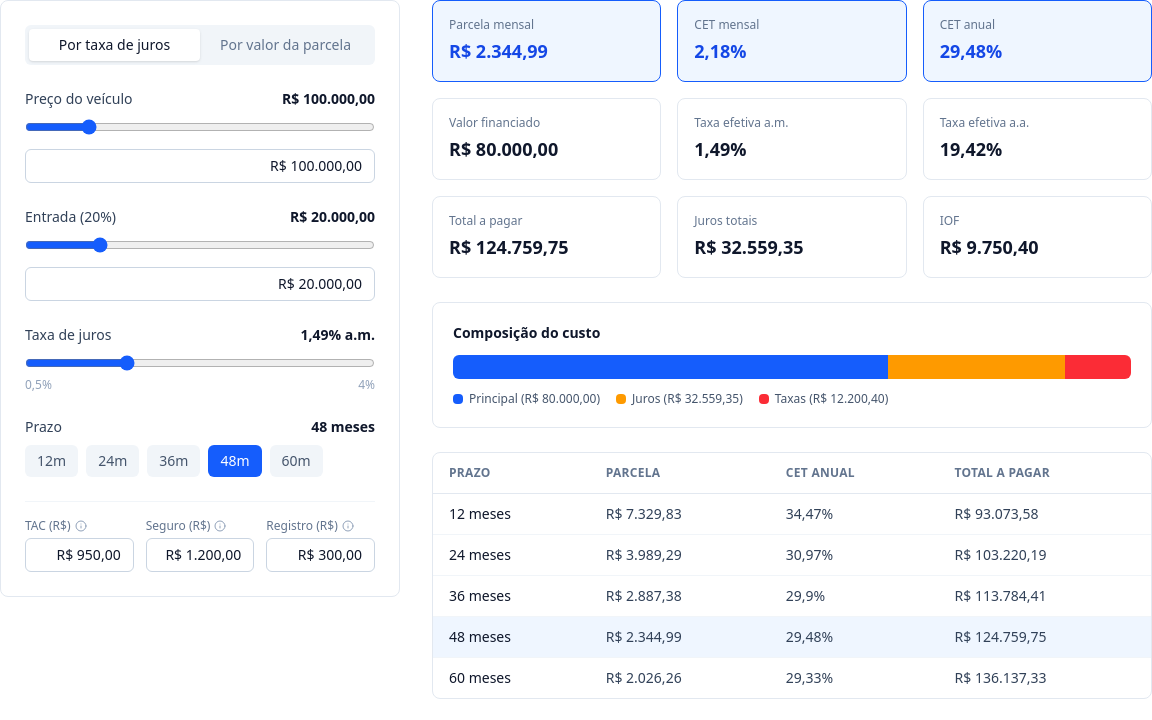
it: FinancingCalculator › updates results when term changes
Click 24m term button
Click the button "24m". click: (113, 461)
box: [86,445,139,477]
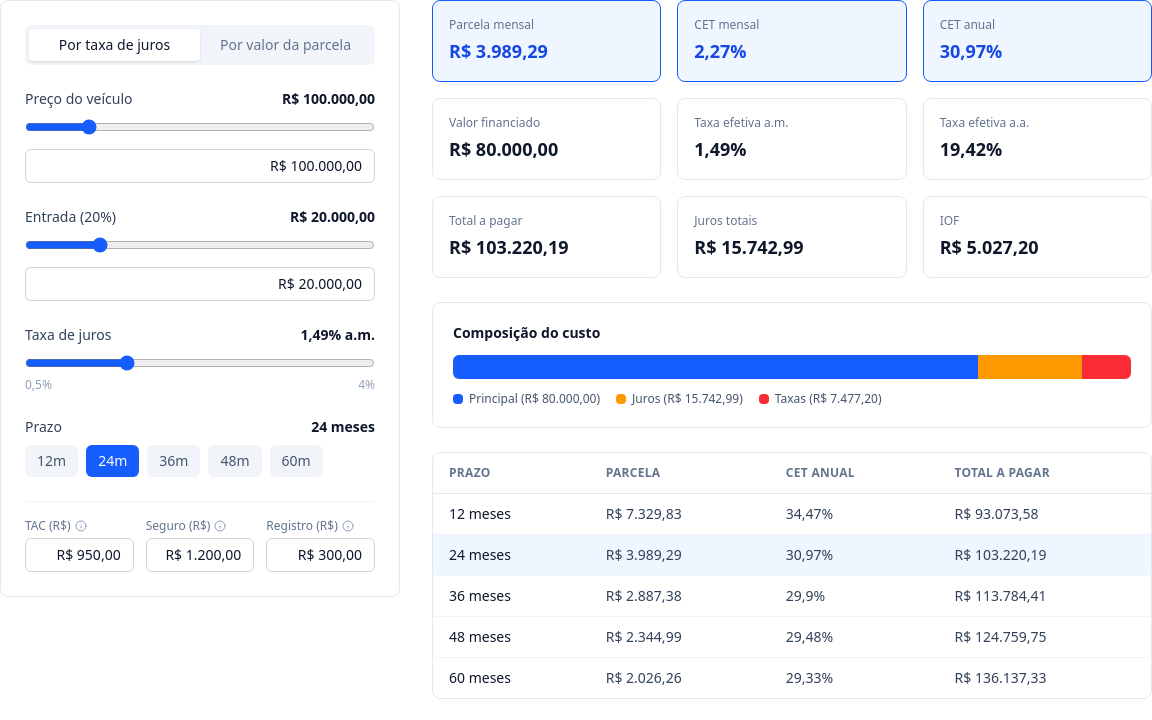
Expected: the text "24 meses" is shown, [311,417,375,437]
